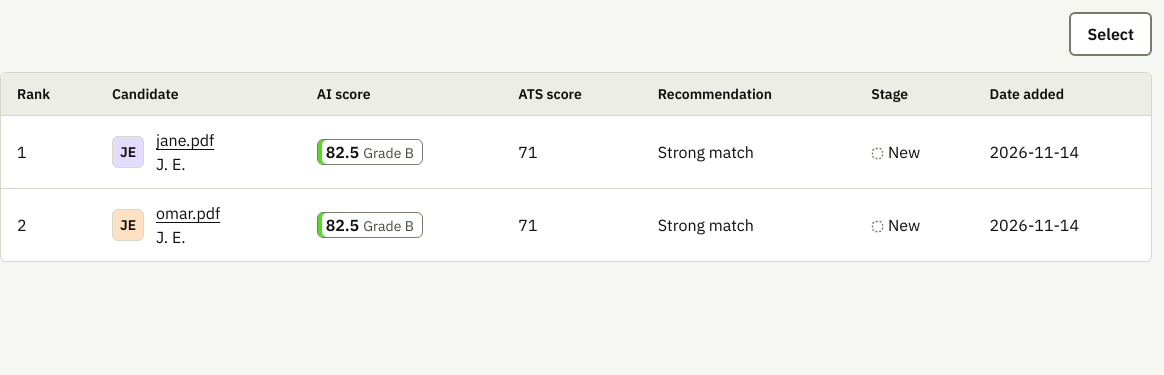
Test: changing the stage of several candidates › Cancel selection hides the checkboxes and forgets the choice
Expected: the element named "Candidates" is shown, [0,72,1152,262]
Click the button "Select": (1111, 34) [1070,12,1152,56]
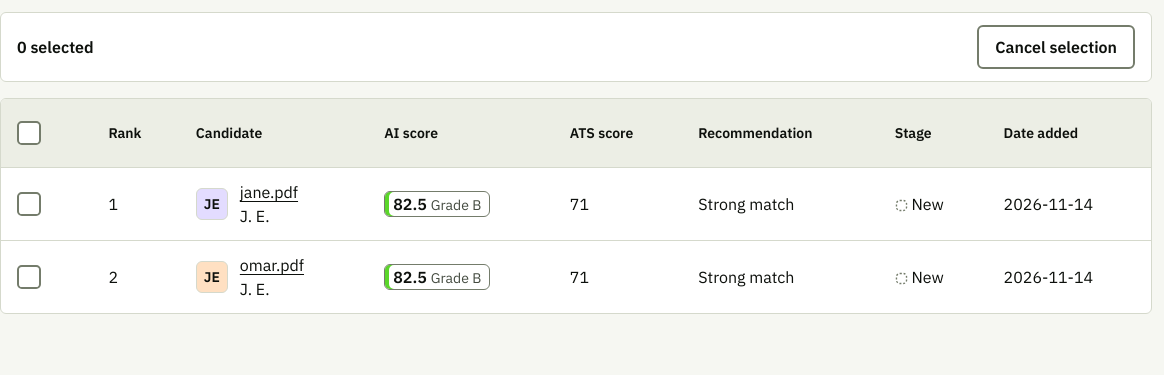
Click the checkbox named "Select jane.pdf" in the row of "jane.pdf": (29, 204) [17,192,41,216]
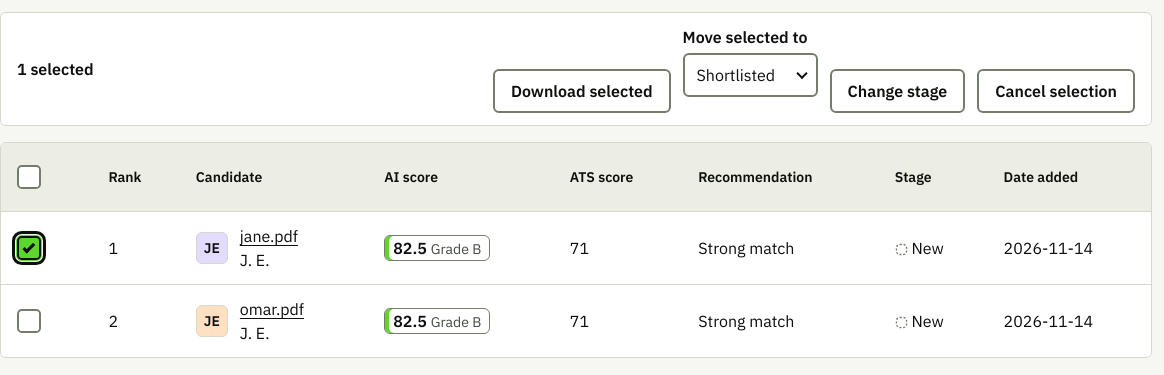
Click the button "Cancel selection": (1056, 91) [977,69,1135,113]
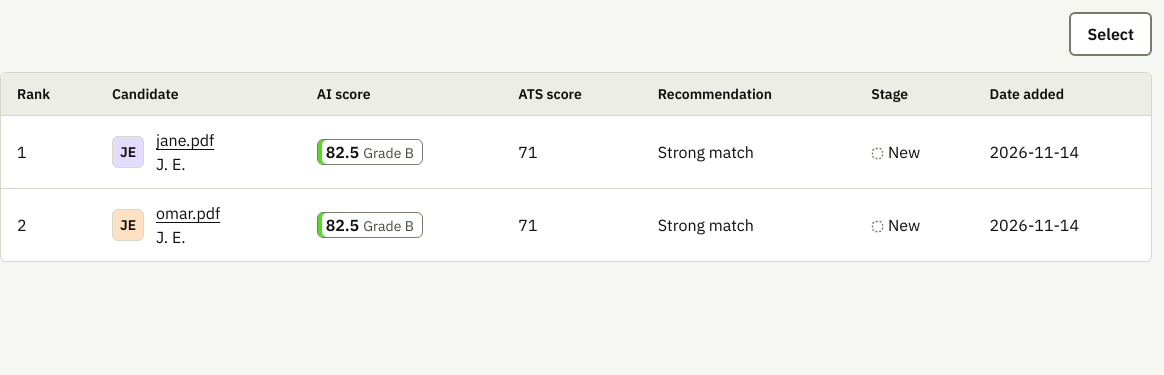
Expected: the checkbox is gone
Click the button "Select": (1111, 34) [1070,12,1152,56]
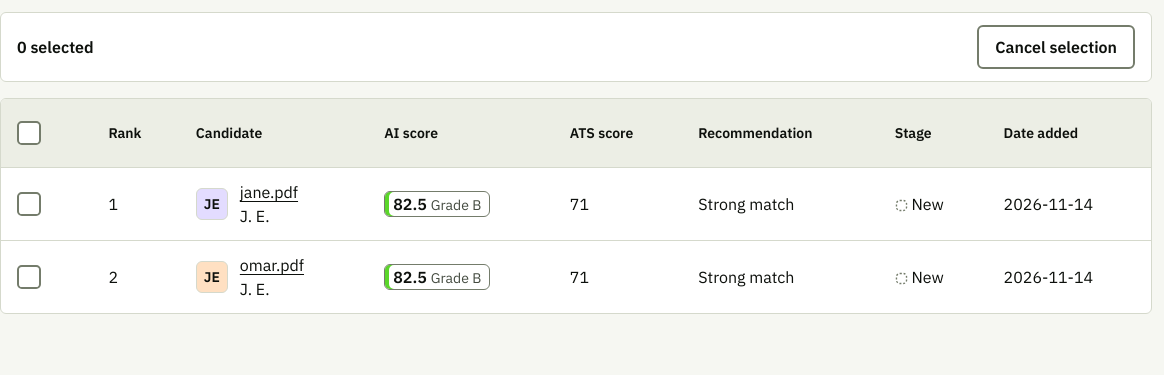
Expected: the checkbox named "Select jane.pdf" in the row of "jane.pdf" is not checked, [17,192,41,216]
